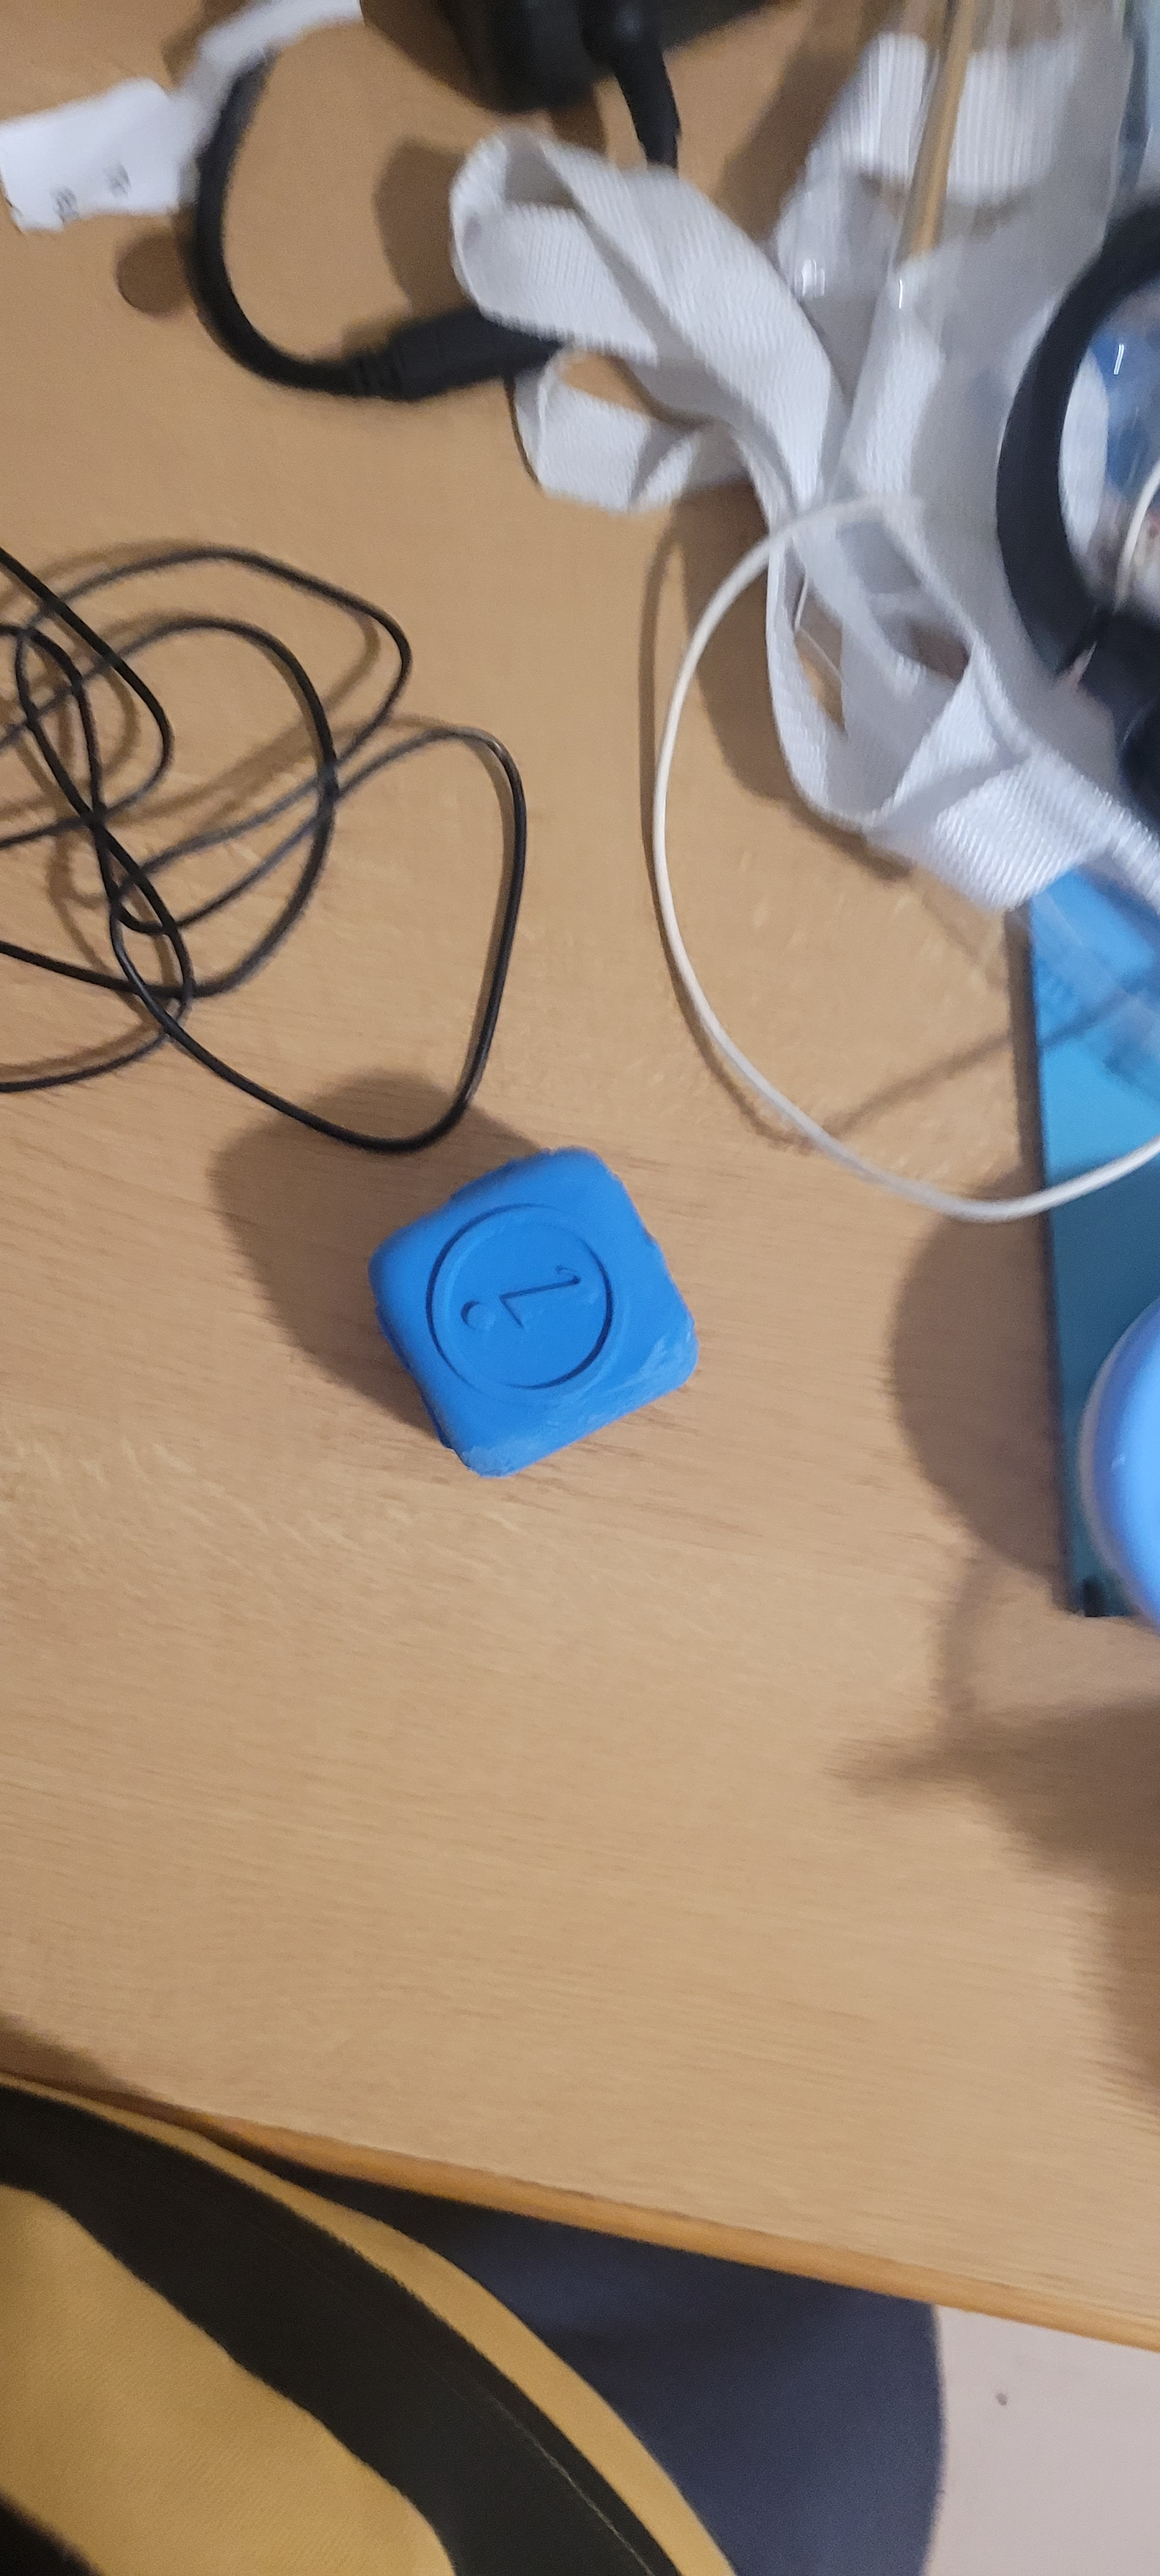Info: (380, 1165, 662, 1437)
